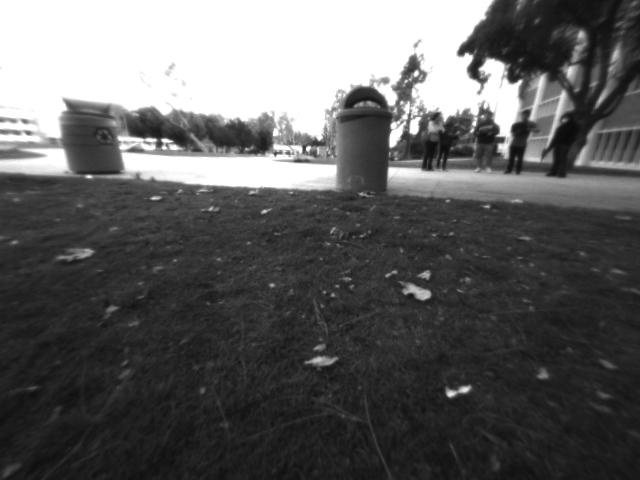trashcan: (330, 84, 394, 195)
